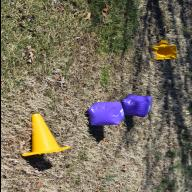cone: (19, 113, 70, 157), (152, 40, 176, 60)
cube: (87, 102, 123, 126), (120, 94, 150, 118)
